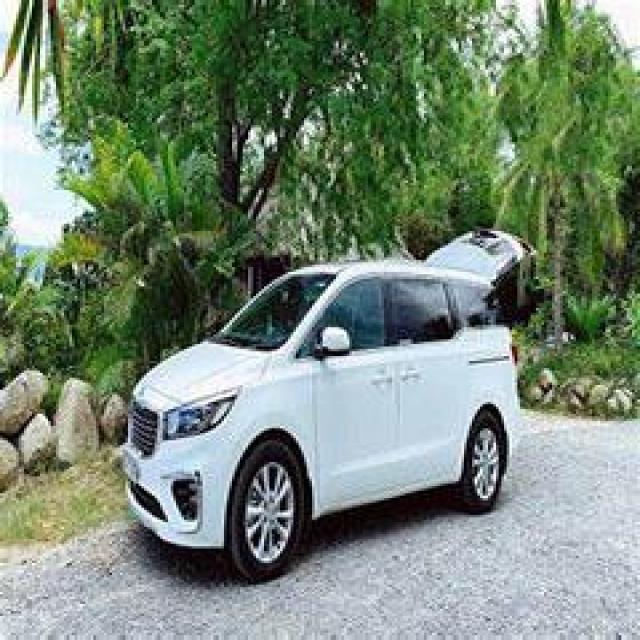car: (76, 189, 572, 610)
